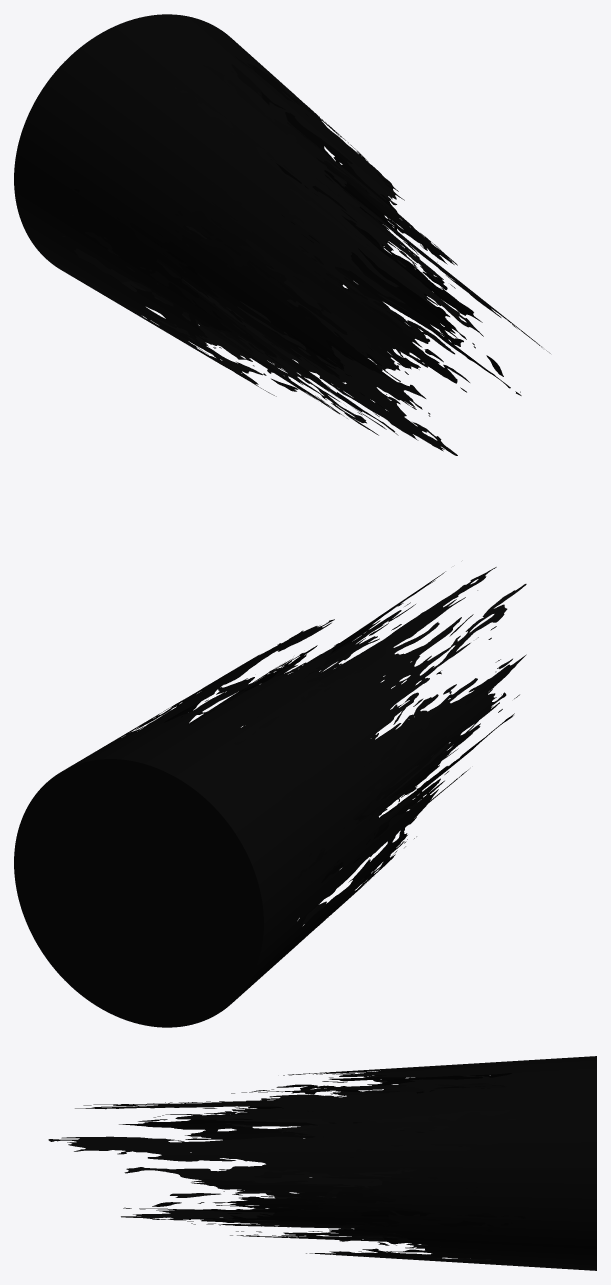
File: fire.obj
The picture shows the model from 3 angles, top to bottom: view 1: azimuth 30°, elevation 25°; view 2: azimuth 150°, elevation 25°; view 3: azimuth 270°, elevation 25°; orthographic projection. The views are drawn at different scales.
Parts seen in each view (by area): view 1: fire_Cylinder.004, fire.002_Cylinder.008, fire.001_Cylinder.007; view 2: fire_Cylinder.004, fire.001_Cylinder.007, fire.002_Cylinder.008; view 3: fire_Cylinder.004, fire.002_Cylinder.008, fire.001_Cylinder.007.
Part boxes in pixels (left/top/right/bottom): fire_Cylinder.004: left=14, top=14, right=437, bottom=396; fire.002_Cylinder.008: left=130, top=97, right=550, bottom=455; fire.001_Cylinder.007: left=57, top=64, right=463, bottom=435; fire_Cylinder.004: left=14, top=619, right=438, bottom=1027; fire.001_Cylinder.007: left=38, top=629, right=506, bottom=1001; fire.002_Cylinder.008: left=56, top=567, right=526, bottom=981; fire_Cylinder.004: left=261, top=1056, right=596, bottom=1270; fire.002_Cylinder.008: left=48, top=1100, right=491, bottom=1228; fire.001_Cylinder.007: left=181, top=1082, right=531, bottom=1241.
Bounding box in the file's own units: 0.2113 × 0.2113 × 0.5734.
Materials: 1 (1 with a texture image).
